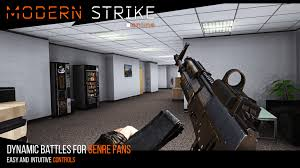gun: (171, 41, 264, 154)
